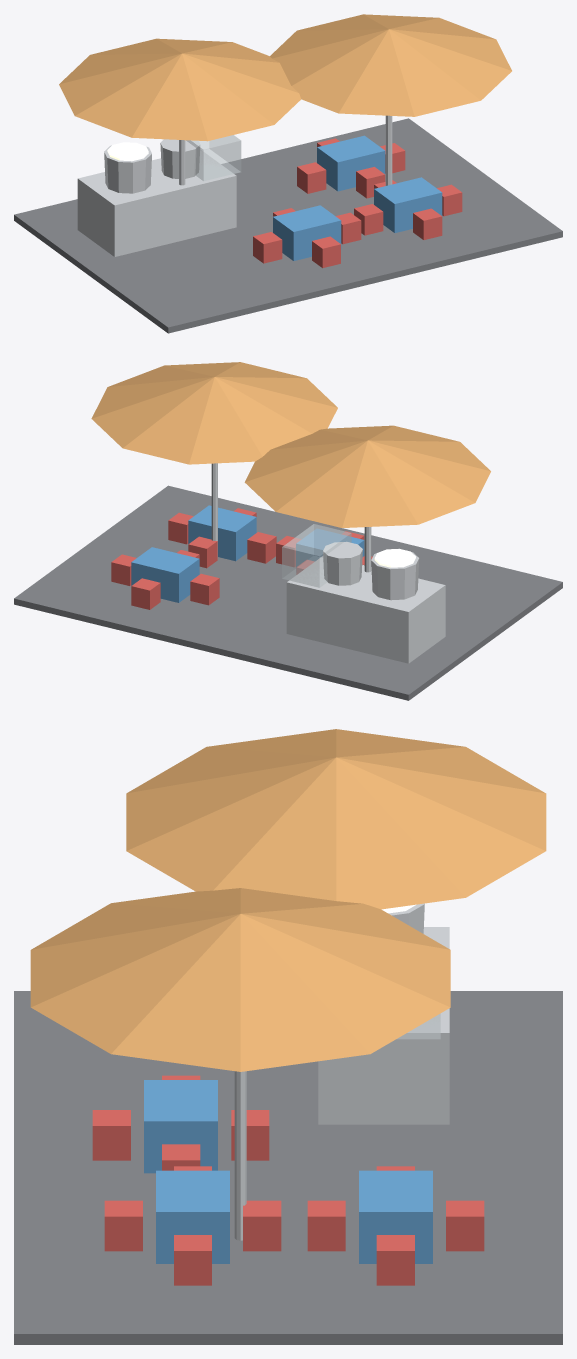
Rendered from prop_15_dalat_night_market_soy_milk_stall_and_umbrella_set.glb.
3 views of the same model, one above another, from view 1: azimuth 30°, elevation 25°; view 2: azimuth 150°, elevation 25°; view 3: azimuth 270°, elevation 25° (orthographic). The views are drawn at different scales.
Visible parts, largest first — view 1: prop_15_dalat_night_market_soy_milk_stall_and_umbrella_set; view 2: prop_15_dalat_night_market_soy_milk_stall_and_umbrella_set; view 3: prop_15_dalat_night_market_soy_milk_stall_and_umbrella_set.
Boxes of the visible parts, x1,y1,x2,y2 form: prop_15_dalat_night_market_soy_milk_stall_and_umbrella_set: (14,14,562,333); prop_15_dalat_night_market_soy_milk_stall_and_umbrella_set: (14,362,562,700); prop_15_dalat_night_market_soy_milk_stall_and_umbrella_set: (14,729,562,1344).
Bounding box in the file's own units: 6.85 × 3.1 × 4.6.
